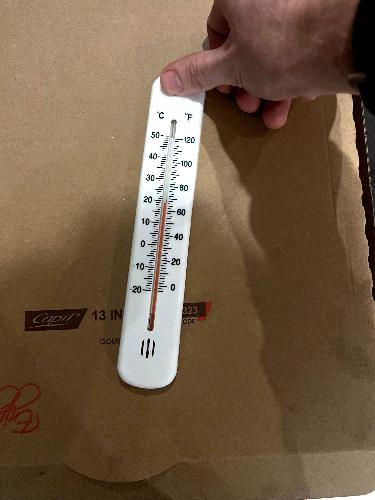thermo: (115, 71, 214, 392)
